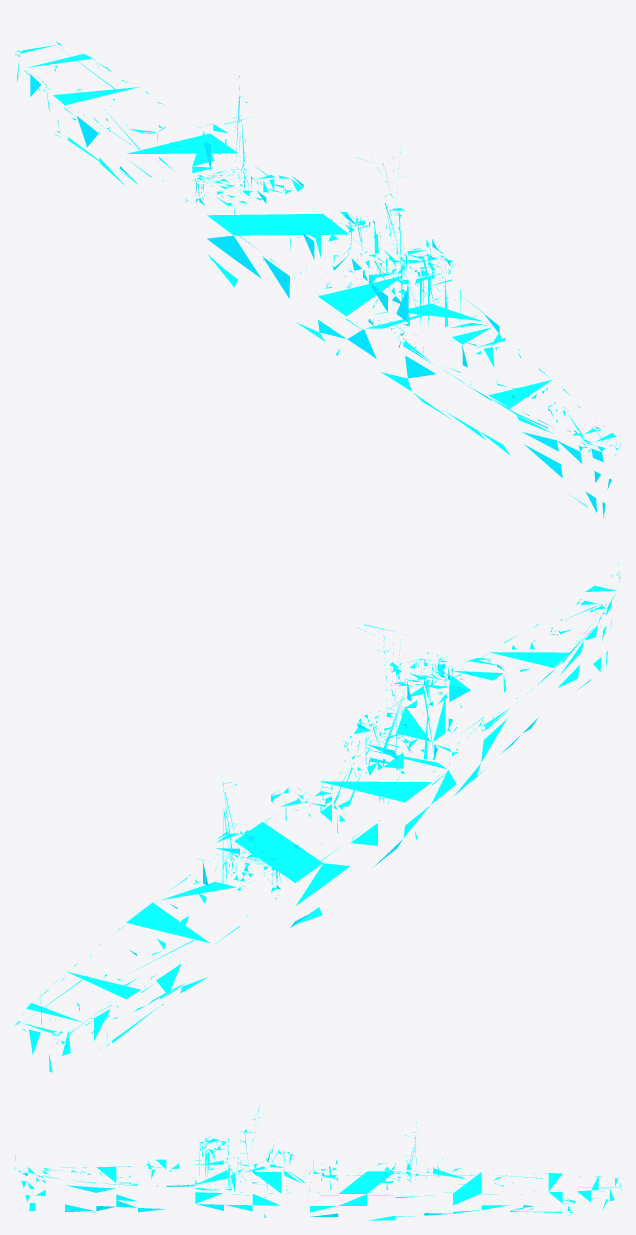
Rendered from Fuyutsuki.glb.
3 views of the same model, one above another, from view 1: azimuth 30°, elevation 25°; view 2: azimuth 150°, elevation 25°; view 3: azimuth 270°, elevation 25° (orthographic). The views are drawn at different scales.
Size of the model in its own units: 0.8082 by 1.76 by 8.94.
